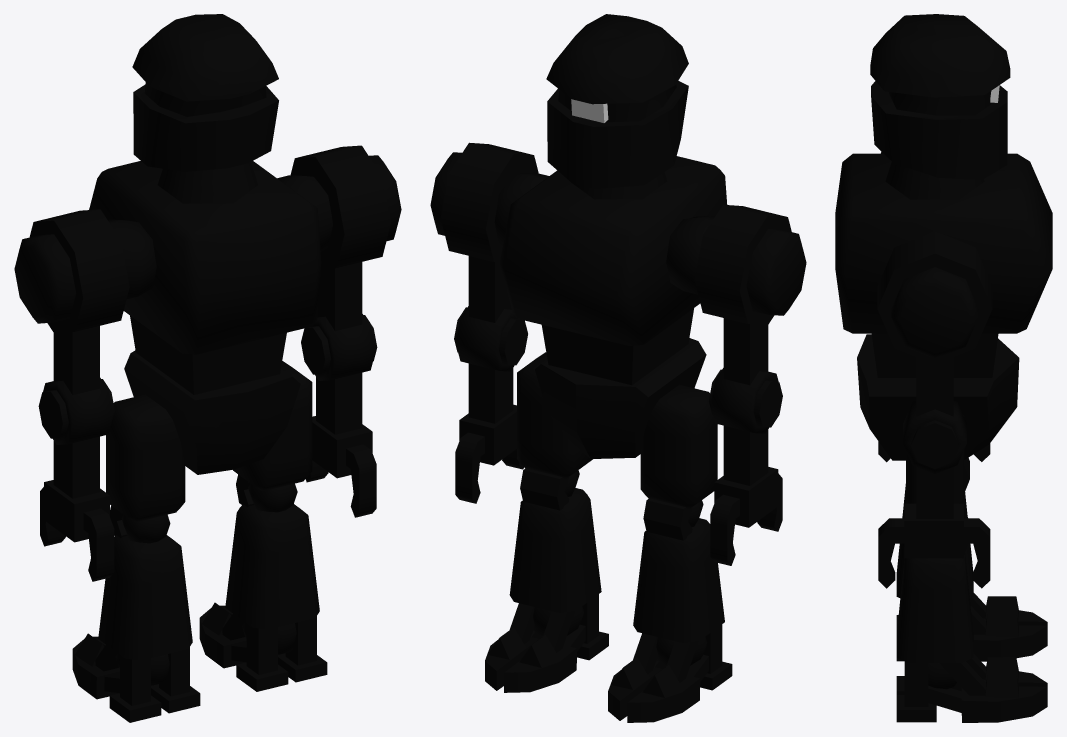
File: Robot1lvl.fbx
The picture shows the model from 3 angles, left to right: view 1: azimuth 30°, elevation 25°; view 2: azimuth 150°, elevation 25°; view 3: azimuth 270°, elevation 25°; orthographic projection. The views are drawn at different scales.
Parts seen in each view (by area): view 1: Robot 1 lvl; view 2: Robot 1 lvl, Eyes.002; view 3: Robot 1 lvl.
Boxes of the visible parts, x1,y1,x2,y2 form: Robot 1 lvl: (14, 14, 401, 722); Robot 1 lvl: (430, 14, 806, 722); Eyes.002: (571, 99, 608, 122); Robot 1 lvl: (835, 14, 1052, 722).
Size of the model in its own units: 1.06 by 0.5785 by 1.9.
